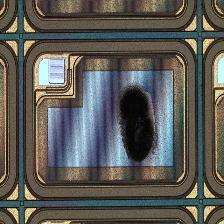PARTICLE: (113, 78, 163, 175)
